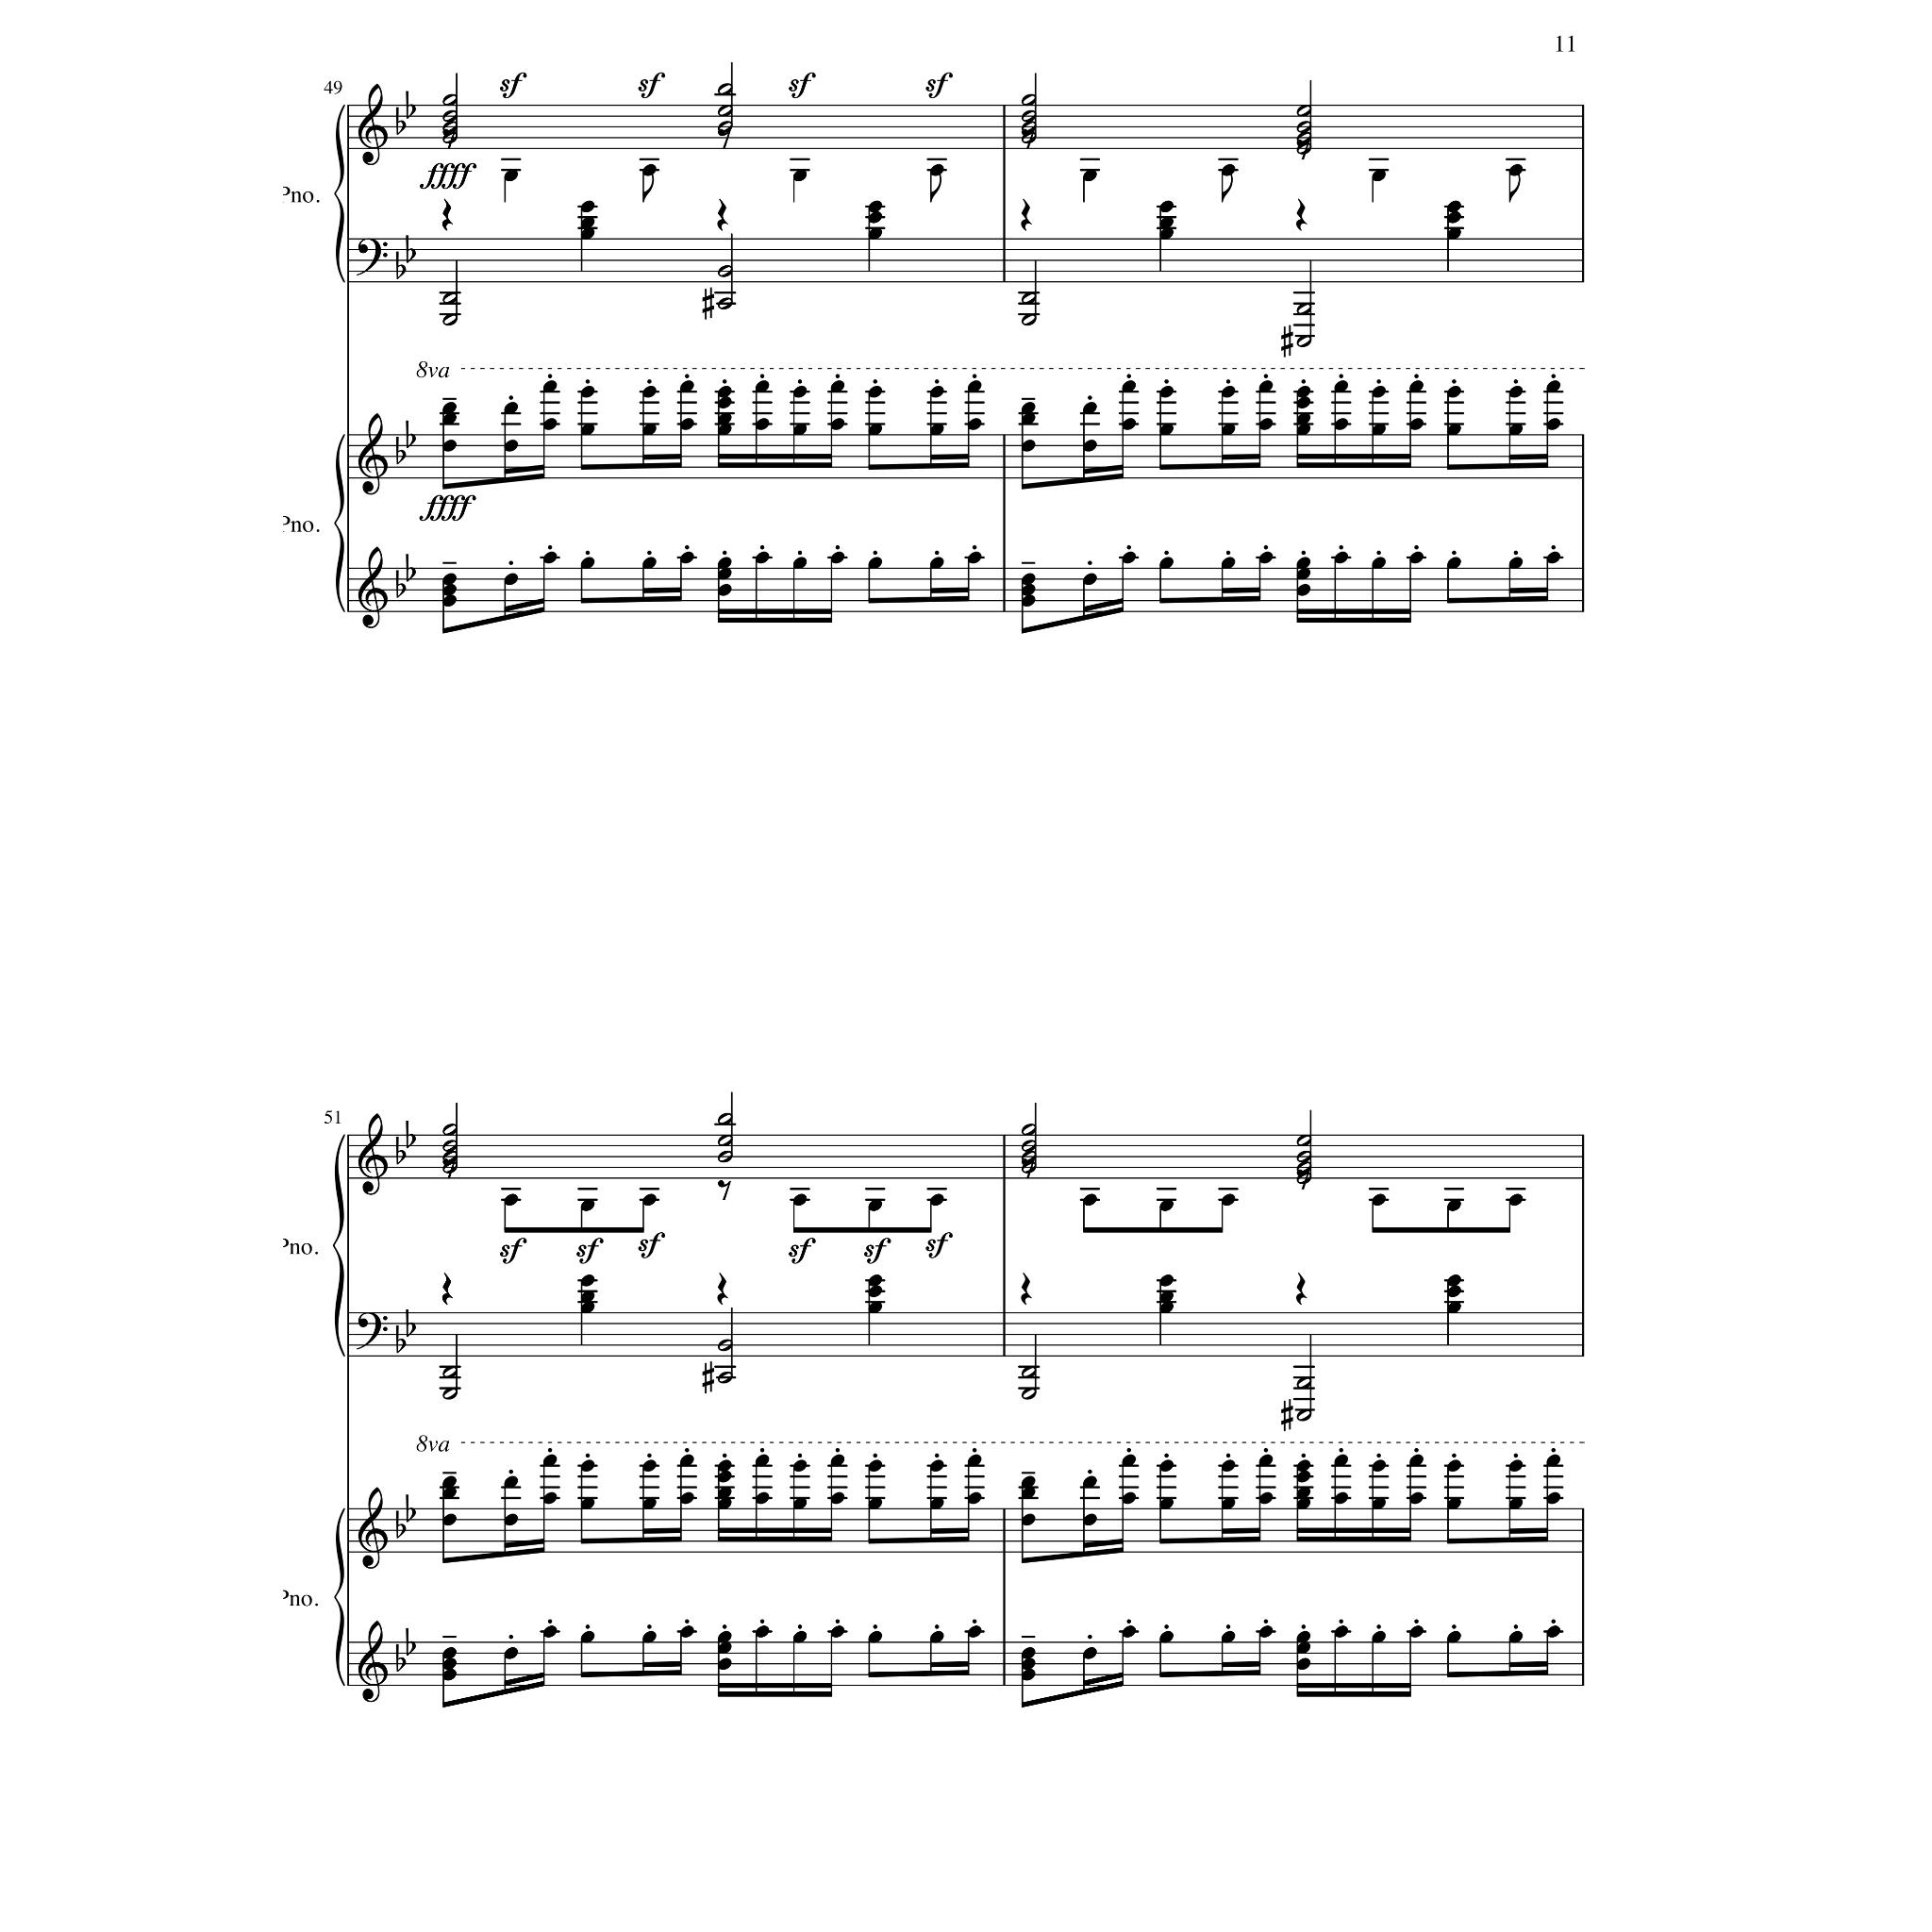brace: (333, 1134, 345, 1357), (333, 104, 345, 283), (333, 433, 345, 612), (333, 1507, 345, 1686)
fClef: (356, 237, 387, 276), (356, 1313, 387, 1350)
flag8thDown: (1221, 170, 1233, 202), (1507, 170, 1520, 202), (642, 170, 655, 202), (931, 170, 941, 202)
gClef: (357, 412, 387, 495), (357, 545, 387, 628), (357, 81, 387, 165), (357, 1486, 387, 1569), (357, 1113, 387, 1196), (357, 1621, 387, 1702)
noteheadBlack: (1219, 163, 1235, 177), (1219, 556, 1235, 570), (1258, 379, 1274, 393), (1258, 550, 1274, 564), (1120, 379, 1136, 393), (1120, 550, 1136, 564), (1507, 163, 1523, 177), (1507, 556, 1523, 570), (1332, 379, 1348, 393), (1332, 550, 1348, 564), (1445, 556, 1461, 570), (541, 550, 557, 564), (579, 216, 594, 230), (579, 556, 594, 570), (502, 571, 518, 586), (541, 379, 557, 393), (502, 168, 518, 182), (867, 556, 883, 570), (929, 163, 945, 177), (929, 556, 945, 570), (717, 410, 732, 425), (717, 395, 732, 409), (717, 566, 732, 580), (717, 556, 732, 570), (791, 168, 807, 182), (791, 556, 807, 570), (1219, 1497, 1235, 1511), (1219, 1629, 1235, 1644), (1507, 1497, 1523, 1511), (1507, 1629, 1523, 1644), (1445, 1198, 1461, 1212), (1445, 1300, 1461, 1315), (1445, 1284, 1461, 1299), (1445, 1497, 1461, 1511), (1445, 1629, 1461, 1644), (579, 1497, 594, 1511), (579, 1198, 594, 1212), (579, 1300, 594, 1315), (579, 1290, 594, 1304), (579, 1629, 594, 1644), (502, 1513, 518, 1527), (867, 1284, 883, 1299), (867, 1497, 883, 1511), (867, 1629, 883, 1644), (867, 1300, 883, 1315), (867, 1198, 883, 1212), (929, 1497, 945, 1511), (929, 1629, 945, 1644), (717, 1497, 732, 1511), (717, 1629, 732, 1644), (791, 1497, 807, 1511), (791, 1629, 807, 1644), (1159, 216, 1173, 230), (1159, 556, 1173, 570), (1295, 410, 1309, 425), (1295, 395, 1309, 409), (1295, 556, 1309, 570), (1295, 566, 1309, 580), (1021, 410, 1035, 425), (1021, 593, 1035, 607), (1021, 571, 1035, 586), (1083, 168, 1097, 182), (1083, 571, 1097, 586), (1546, 379, 1560, 393), (1546, 550, 1560, 564), (1371, 168, 1385, 182), (1408, 550, 1422, 564), (1371, 556, 1385, 570), (1408, 379, 1422, 393), (679, 379, 694, 393), (679, 550, 694, 564), (642, 163, 656, 177), (642, 556, 656, 570), (442, 593, 456, 607), (442, 410, 456, 425), (442, 571, 456, 586), (830, 379, 844, 393), (830, 550, 844, 564), (968, 379, 982, 393), (968, 550, 982, 564), (755, 379, 770, 393), (755, 550, 770, 564), (1159, 1198, 1173, 1212), (1159, 1300, 1173, 1315), (1159, 1290, 1173, 1304), (1159, 1497, 1173, 1511), (1159, 1629, 1173, 1644), (1295, 1497, 1309, 1511), (1295, 1629, 1309, 1644), (1021, 1513, 1035, 1527), (1083, 1513, 1097, 1527), (1371, 1497, 1385, 1511), (1371, 1629, 1385, 1644), (642, 1497, 656, 1511), (642, 1629, 656, 1644), (442, 1513, 456, 1527), (1219, 423, 1235, 435), (1219, 386, 1235, 398), (1258, 418, 1274, 430), (1120, 418, 1136, 430), (1507, 423, 1523, 435), (1507, 386, 1523, 398), (1332, 418, 1348, 430), (1445, 226, 1461, 239), (1445, 211, 1461, 223), (1445, 200, 1461, 212), (1445, 423, 1461, 435), (1445, 386, 1461, 398), (579, 226, 594, 239), (579, 200, 594, 212), (579, 423, 594, 435), (579, 386, 594, 398), (502, 439, 518, 451), (502, 402, 518, 414), (541, 418, 557, 430), (867, 226, 883, 239), (867, 211, 883, 223), (867, 200, 883, 212), (867, 423, 883, 435), (867, 386, 883, 398), (929, 423, 945, 435), (929, 386, 945, 398), (717, 423, 732, 435), (717, 386, 732, 398), (717, 584, 732, 596), (791, 423, 807, 435), (791, 386, 807, 398), (1219, 1194, 1235, 1207), (1219, 1460, 1235, 1472), (1258, 1626, 1274, 1638), (1258, 1491, 1274, 1504), (1258, 1454, 1274, 1467), (1120, 1491, 1136, 1504), (1120, 1454, 1136, 1467), (1120, 1626, 1136, 1638), (1507, 1194, 1523, 1207), (1507, 1460, 1523, 1472), (1332, 1491, 1348, 1504), (1332, 1454, 1348, 1467), (1332, 1626, 1348, 1638), (1445, 1460, 1461, 1472), (1445, 1274, 1461, 1286), (579, 1274, 594, 1286), (579, 1460, 594, 1472), (541, 1491, 557, 1504), (541, 1454, 557, 1467), (541, 1626, 557, 1638), (502, 1194, 518, 1207), (502, 1476, 518, 1488), (502, 1647, 518, 1660), (867, 1274, 883, 1286), (867, 1460, 883, 1472), (929, 1194, 945, 1207), (929, 1460, 945, 1472), (717, 1460, 732, 1472), (717, 1486, 732, 1499), (717, 1470, 732, 1483), (717, 1658, 732, 1670), (717, 1642, 732, 1654), (791, 1194, 807, 1207), (791, 1460, 807, 1472), (1159, 423, 1173, 435), (1159, 226, 1173, 239), (1159, 200, 1173, 212), (1159, 386, 1173, 398), (1295, 584, 1309, 596), (1295, 423, 1309, 435), (1295, 386, 1309, 398), (1021, 439, 1035, 451), (1021, 402, 1035, 414), (1021, 584, 1035, 596), (1083, 439, 1097, 451), (1083, 402, 1097, 414), (1546, 418, 1560, 430), (1371, 423, 1385, 435), (1371, 386, 1385, 398), (1408, 418, 1422, 430), (679, 418, 694, 430), (642, 423, 656, 435), (642, 386, 656, 398), (442, 439, 456, 451), (442, 402, 456, 414), (442, 584, 456, 596), (830, 418, 844, 430), (968, 418, 982, 430), (755, 418, 770, 430), (1159, 1274, 1173, 1286), (1159, 1460, 1173, 1472), (1295, 1460, 1309, 1472), (1295, 1486, 1309, 1499), (1295, 1470, 1309, 1483), (1295, 1658, 1309, 1670), (1295, 1642, 1309, 1654), (1021, 1486, 1035, 1499), (1021, 1476, 1035, 1488), (1021, 1668, 1035, 1681), (1021, 1658, 1035, 1670), (1021, 1647, 1035, 1660), (1083, 1194, 1097, 1207), (1083, 1476, 1097, 1488), (1083, 1647, 1097, 1660), (1546, 1491, 1560, 1504), (1546, 1454, 1560, 1467), (1546, 1626, 1560, 1638), (1371, 1194, 1385, 1207), (1371, 1460, 1385, 1472), (1408, 1491, 1422, 1504), (1408, 1454, 1422, 1467), (1408, 1626, 1422, 1638), (679, 1454, 694, 1467), (679, 1491, 694, 1504), (679, 1626, 694, 1638), (642, 1194, 656, 1207), (642, 1460, 656, 1472), (442, 1486, 456, 1499), (442, 1476, 456, 1488), (442, 1668, 456, 1681), (442, 1658, 456, 1670), (442, 1647, 456, 1660), (830, 1491, 844, 1504), (830, 1454, 844, 1467), (830, 1626, 844, 1638), (968, 1491, 982, 1504), (968, 1454, 982, 1467), (968, 1626, 982, 1638), (755, 1491, 770, 1504), (755, 1454, 770, 1467), (755, 1626, 770, 1638)
noteheadHalf: (1295, 334, 1311, 349), (1021, 311, 1037, 326), (1021, 290, 1037, 304), (442, 311, 458, 326), (442, 290, 458, 304), (717, 81, 732, 96), (717, 295, 732, 310), (717, 264, 732, 278), (1295, 1171, 1311, 1185), (1295, 1408, 1311, 1422), (1021, 1366, 1037, 1380), (442, 1139, 458, 1154), (442, 1366, 458, 1380), (1021, 1139, 1037, 1154), (1295, 120, 1311, 133), (1295, 142, 1311, 154), (1295, 131, 1311, 143), (1295, 104, 1311, 117), (1295, 303, 1311, 315), (442, 131, 458, 143), (442, 120, 458, 133), (442, 110, 458, 122), (442, 94, 458, 106), (1021, 131, 1037, 143), (1021, 120, 1037, 133), (1021, 110, 1037, 122), (1021, 94, 1037, 106), (717, 120, 732, 133), (717, 104, 732, 117), (1295, 1161, 1311, 1173), (1295, 1150, 1311, 1162), (1295, 1134, 1311, 1146), (1295, 1376, 1311, 1389), (442, 1161, 458, 1173), (442, 1150, 458, 1162), (442, 1123, 458, 1136), (442, 1387, 458, 1399), (1021, 1161, 1037, 1173), (1021, 1150, 1037, 1162), (1021, 1123, 1037, 1136), (1021, 1387, 1037, 1399), (717, 1150, 732, 1162), (717, 1134, 732, 1146), (717, 1113, 732, 1125), (717, 1371, 732, 1384), (717, 1339, 732, 1352)
rest8th: (1021, 127, 1035, 150), (442, 127, 456, 150), (717, 127, 731, 150), (1295, 138, 1309, 159), (442, 1159, 456, 1180), (1021, 1159, 1035, 1180), (717, 1180, 731, 1201), (1295, 1169, 1309, 1189)
restQuarter: (1295, 1272, 1307, 1306), (1021, 1272, 1033, 1306), (441, 1272, 453, 1306), (717, 1272, 729, 1306), (1295, 198, 1307, 230), (1021, 198, 1033, 230), (441, 198, 453, 230), (717, 198, 729, 230)
